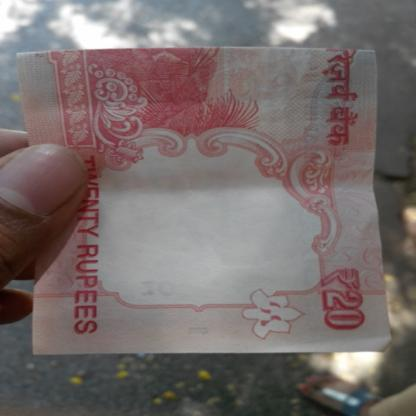Old20Back: (26, 48, 379, 348)
